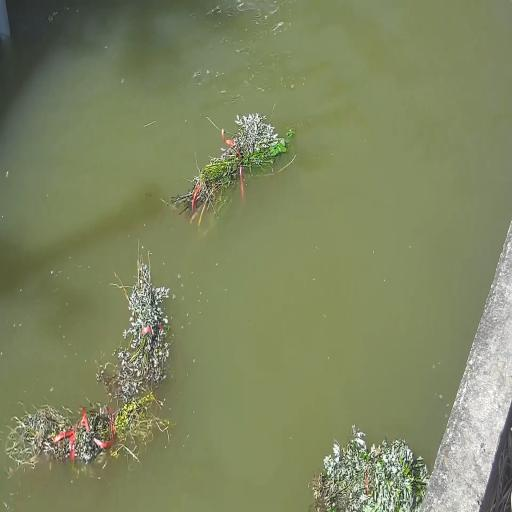twig: (4, 388, 170, 475), (164, 109, 290, 223), (314, 424, 431, 511), (105, 246, 172, 397)
